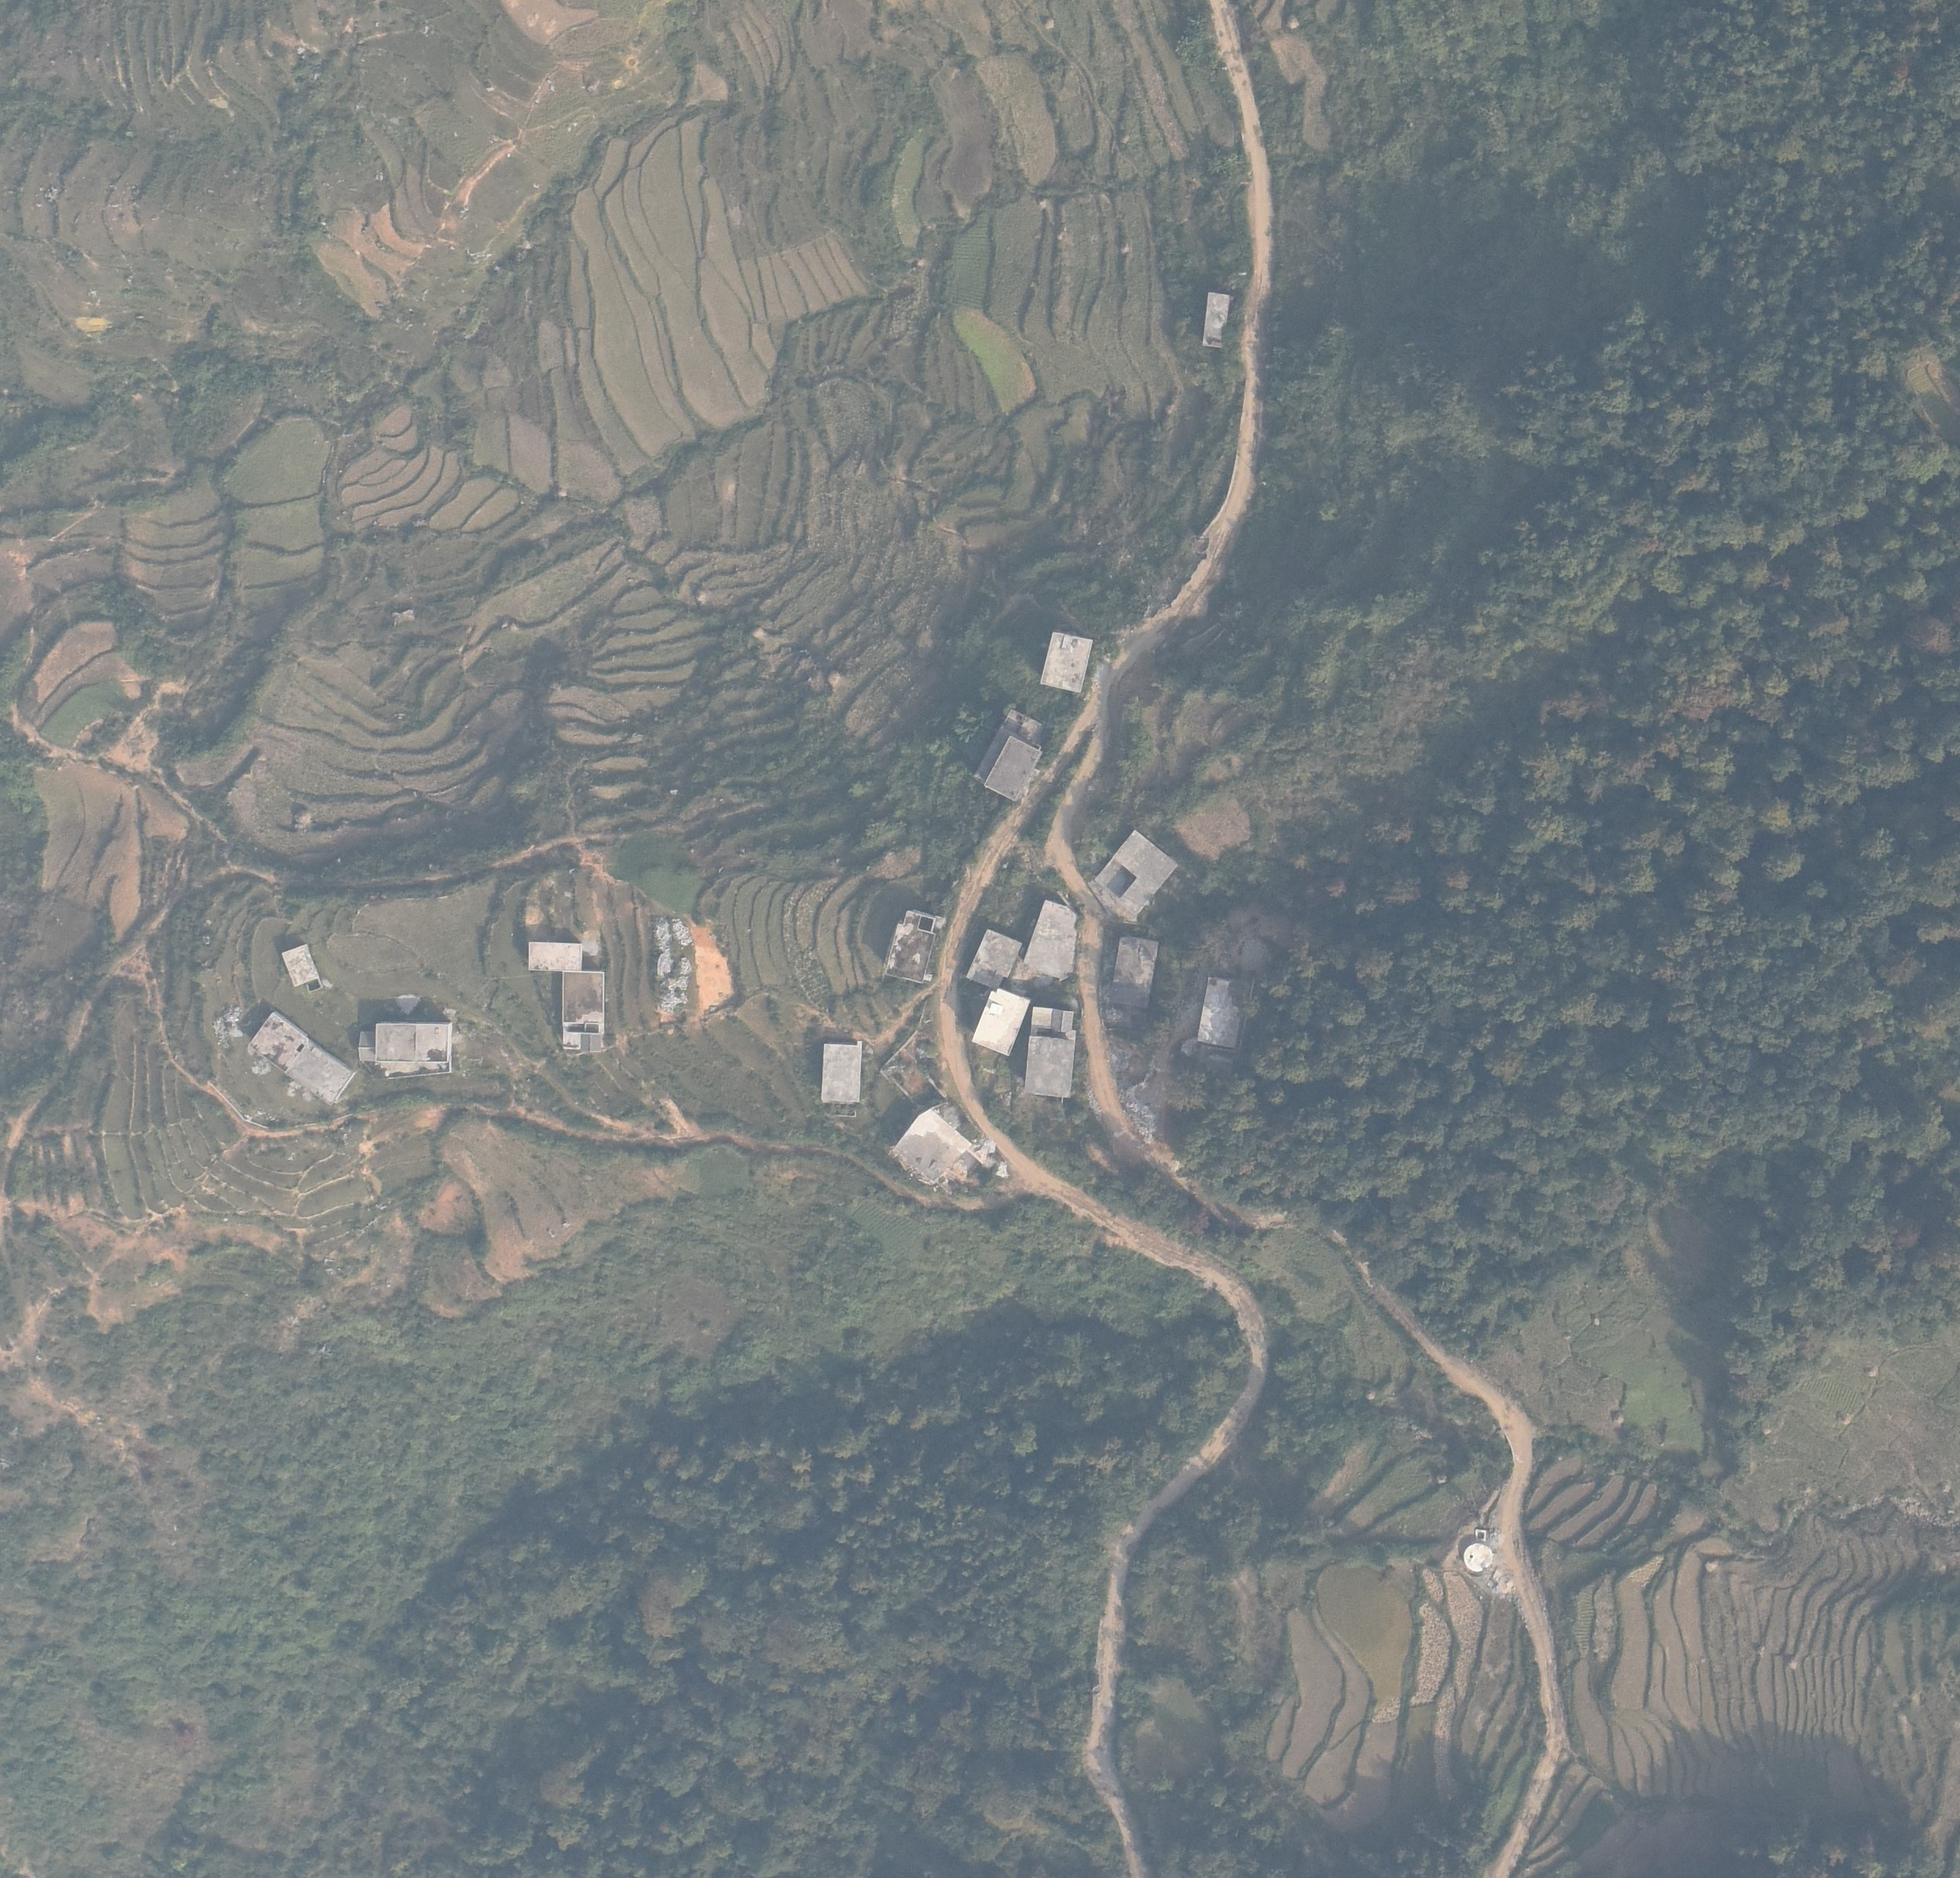building: (1097, 830, 1179, 922), (891, 1107, 973, 1187), (973, 710, 1042, 802), (359, 1020, 453, 1077), (1023, 1007, 1076, 1099), (283, 1044, 354, 1103), (1025, 900, 1076, 981), (971, 988, 1030, 1057), (883, 911, 938, 984), (1198, 974, 1251, 1048), (560, 970, 606, 1053), (1109, 935, 1160, 1009), (250, 1011, 308, 1073), (965, 929, 1022, 990), (1038, 631, 1094, 692), (820, 1040, 861, 1105), (280, 943, 323, 994), (527, 943, 582, 974), (1202, 292, 1231, 349)
well: (1464, 1541, 1493, 1572)
